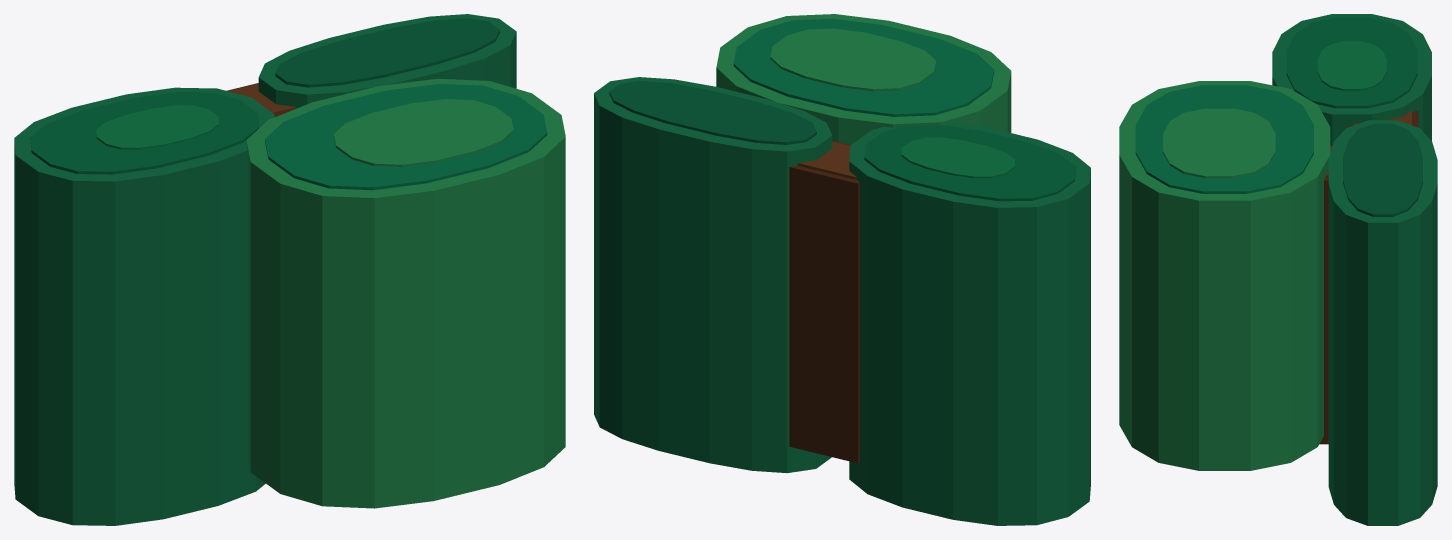
Rendered from bag_cubos_esmeralda.fbx.
3 views of the same model, side by side, from view 1: azimuth 30°, elevation 25°; view 2: azimuth 150°, elevation 25°; view 3: azimuth 270°, elevation 25° (orthographic). The views are drawn at different scales.
Visible parts, largest first — view 1: bag_cubos_esmeralda_mochila; view 2: bag_cubos_esmeralda_mochila; view 3: bag_cubos_esmeralda_mochila.
Part boxes in pixels (box(x1,y1,x2,y2)): bag_cubos_esmeralda_mochila: box(14, 14, 565, 525); bag_cubos_esmeralda_mochila: box(594, 14, 1090, 525); bag_cubos_esmeralda_mochila: box(1119, 14, 1437, 525).
Bounding box in the file's own units: 2.76 × 1.87 × 1.75.
Materials: 1 (1 with a texture image).
